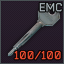EMERCOM medical unit key: (0, 0, 64, 64)
